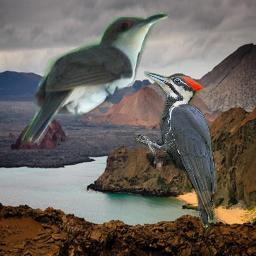Cuckoo: (21, 12, 171, 146)
Woodpecker: (135, 71, 222, 231)
